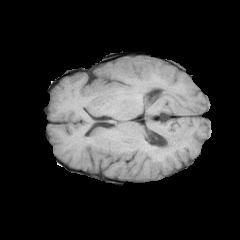glioma: (86, 56, 164, 97)
